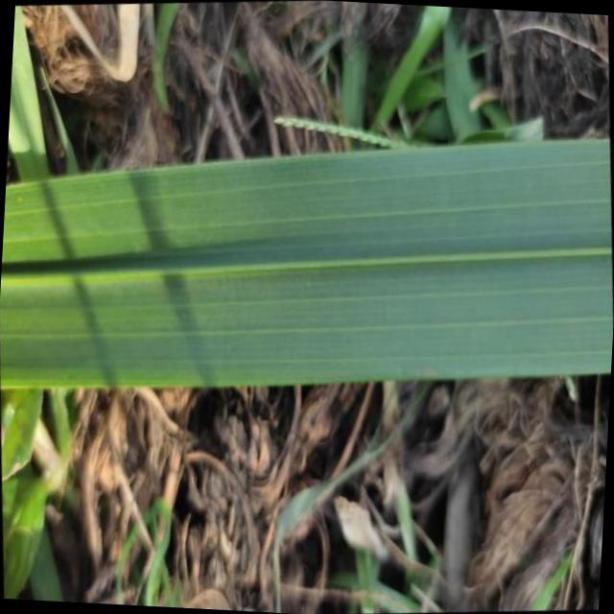Healthy: (0, 139, 614, 390)
